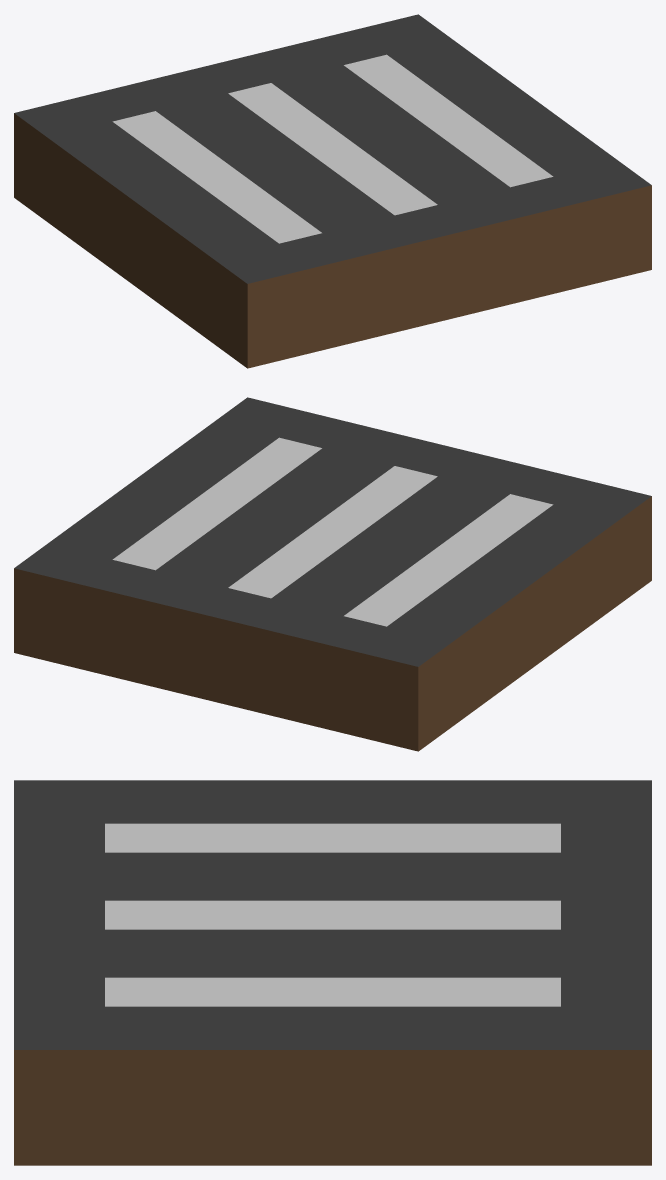
File: cross_road_1.fbx
The picture shows the model from 3 angles, top to bottom: view 1: azimuth 30°, elevation 25°; view 2: azimuth 150°, elevation 25°; view 3: azimuth 270°, elevation 25°; orthographic projection. The views are drawn at different scales.
Parts seen in each view (by area): view 1: Cube.004; view 2: Cube.004; view 3: Cube.004.
Boxes of the visible parts, <box> form: Cube.004: <box>14,14,651,368</box>; Cube.004: <box>14,397,651,751</box>; Cube.004: <box>14,780,651,1165</box>.
Bounding box in the file's own units: 1000 × 200 × 1000.
1 material, 1 textured.
